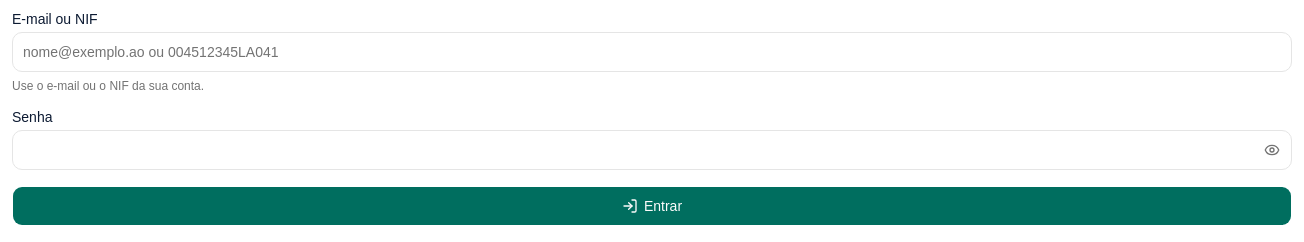
LoginForm › entra por NIF, guarda a sessão e chama onSuccess
Later steps or results of the test are not shown.
Type "004512345LA041" into the field labelled "E-mail ou NIF". click: (652, 52)
box: [12,32,1292,72]
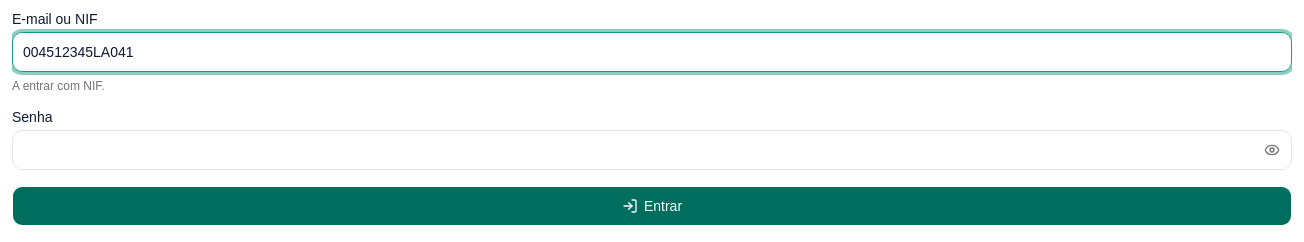
Check: the text "A entrar com NIF." is shown, box [12,79,105,93]
